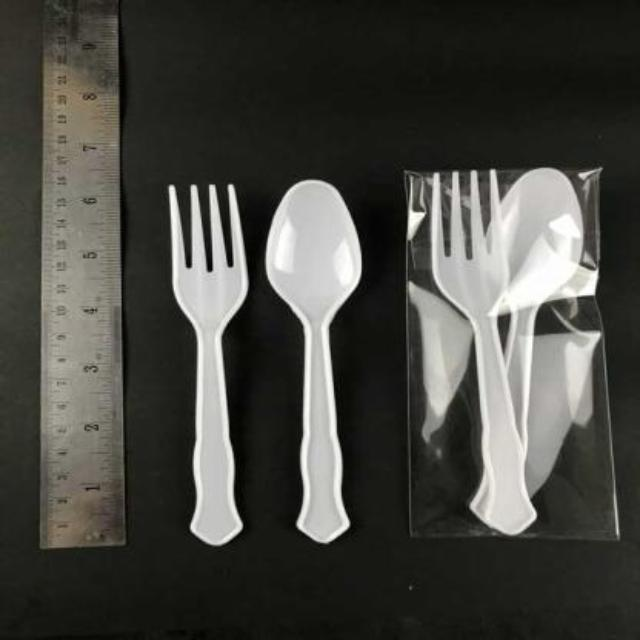plastic_cultery: (165, 181, 355, 545), (425, 168, 589, 536)
